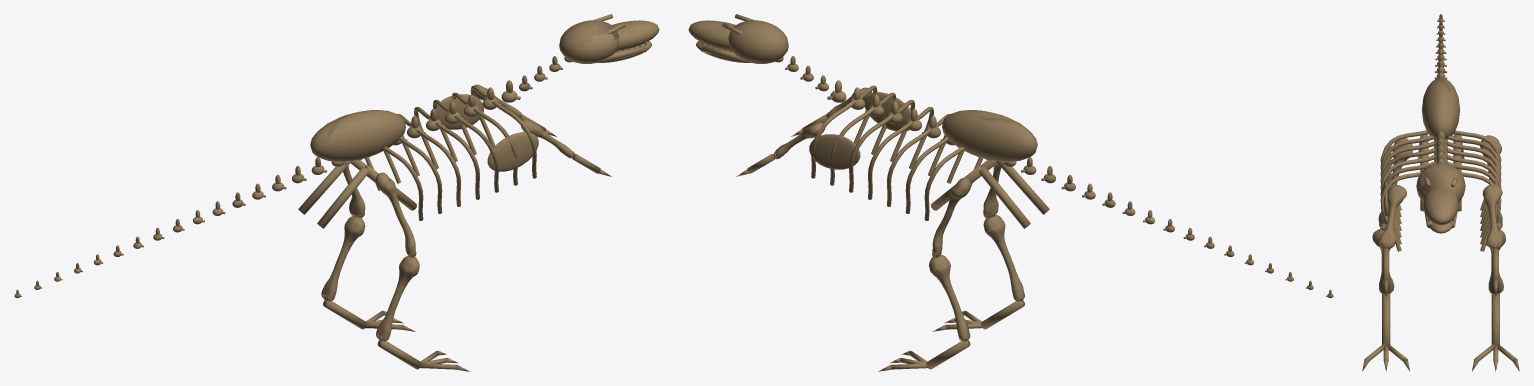
File: Skeleton_Theropod.fbx
3 renders of one model, left to right at view 1: azimuth 30°, elevation 25°; view 2: azimuth 150°, elevation 25°; view 3: azimuth 270°, elevation 25°, orthographic.
Parts seen in each view (by area): view 1: Skeleton_Theropod; view 2: Skeleton_Theropod; view 3: Skeleton_Theropod.
Part boxes in pixels (x1,y1,x2,y2): Skeleton_Theropod: (14,14,659,371); Skeleton_Theropod: (688,14,1333,371); Skeleton_Theropod: (1362,14,1519,371).
Bounding box in the file's own units: 1.36 × 0.568 × 0.2875.
